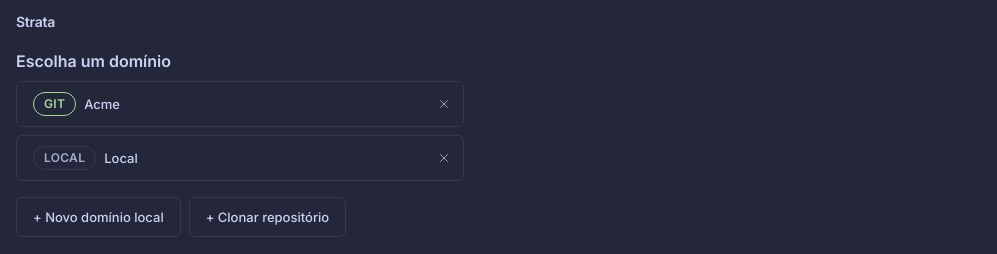
DomainPicker › activates a domain and shows its projects
Click the button "Git Acme".
click(55, 104)  # box [16,81,464,127]
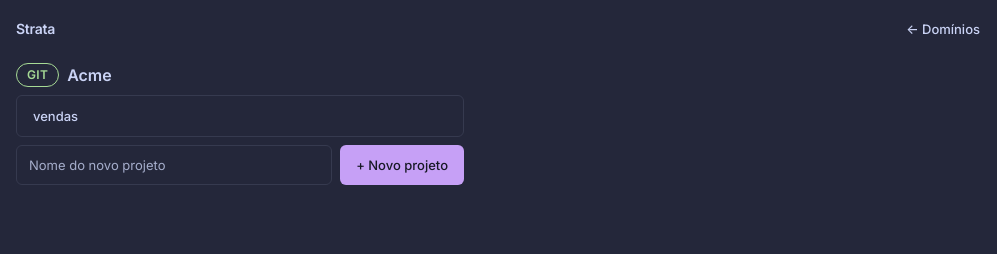
Check: the button "vendas" is shown, box [16,95,464,137]
